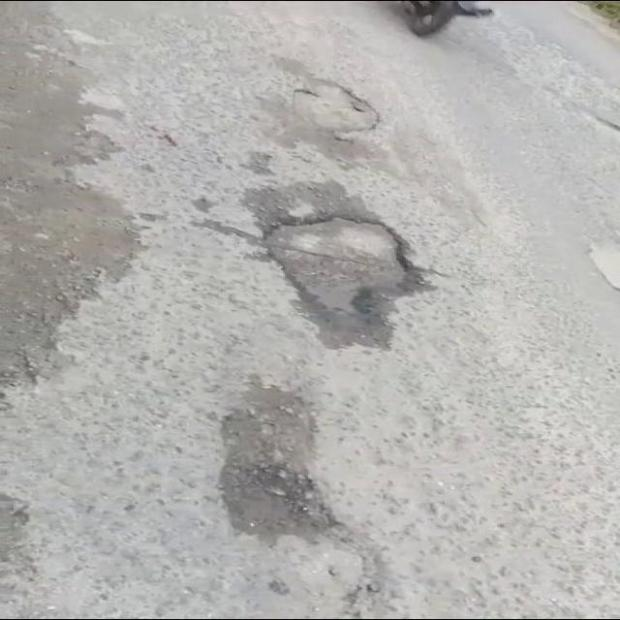lubang: (0, 2, 134, 401), (264, 217, 429, 346), (220, 381, 336, 538), (281, 78, 380, 157), (0, 493, 46, 617)
